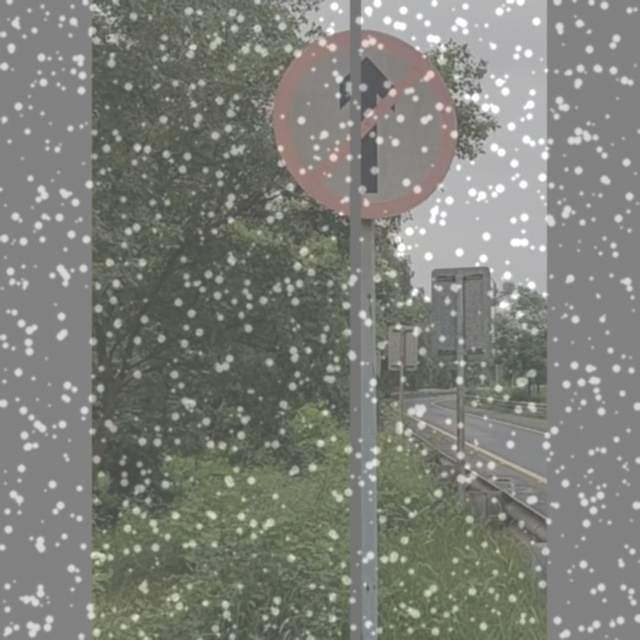No_Entry: (274, 32, 455, 218)
